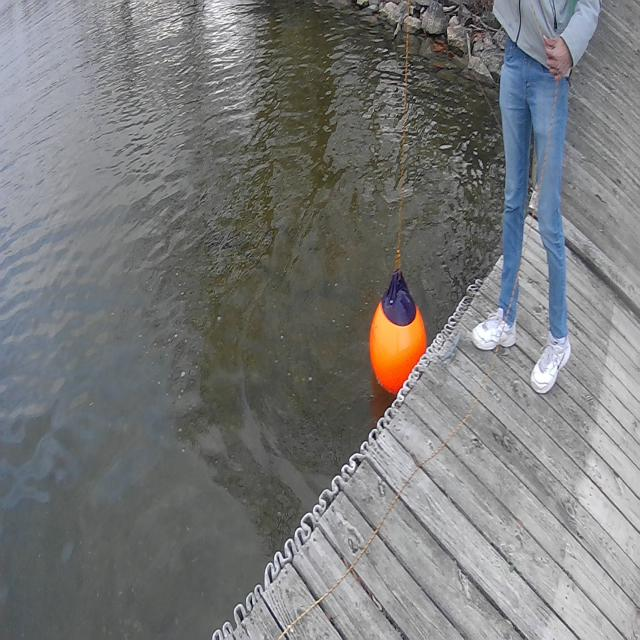Buoy: (366, 260, 430, 398)
